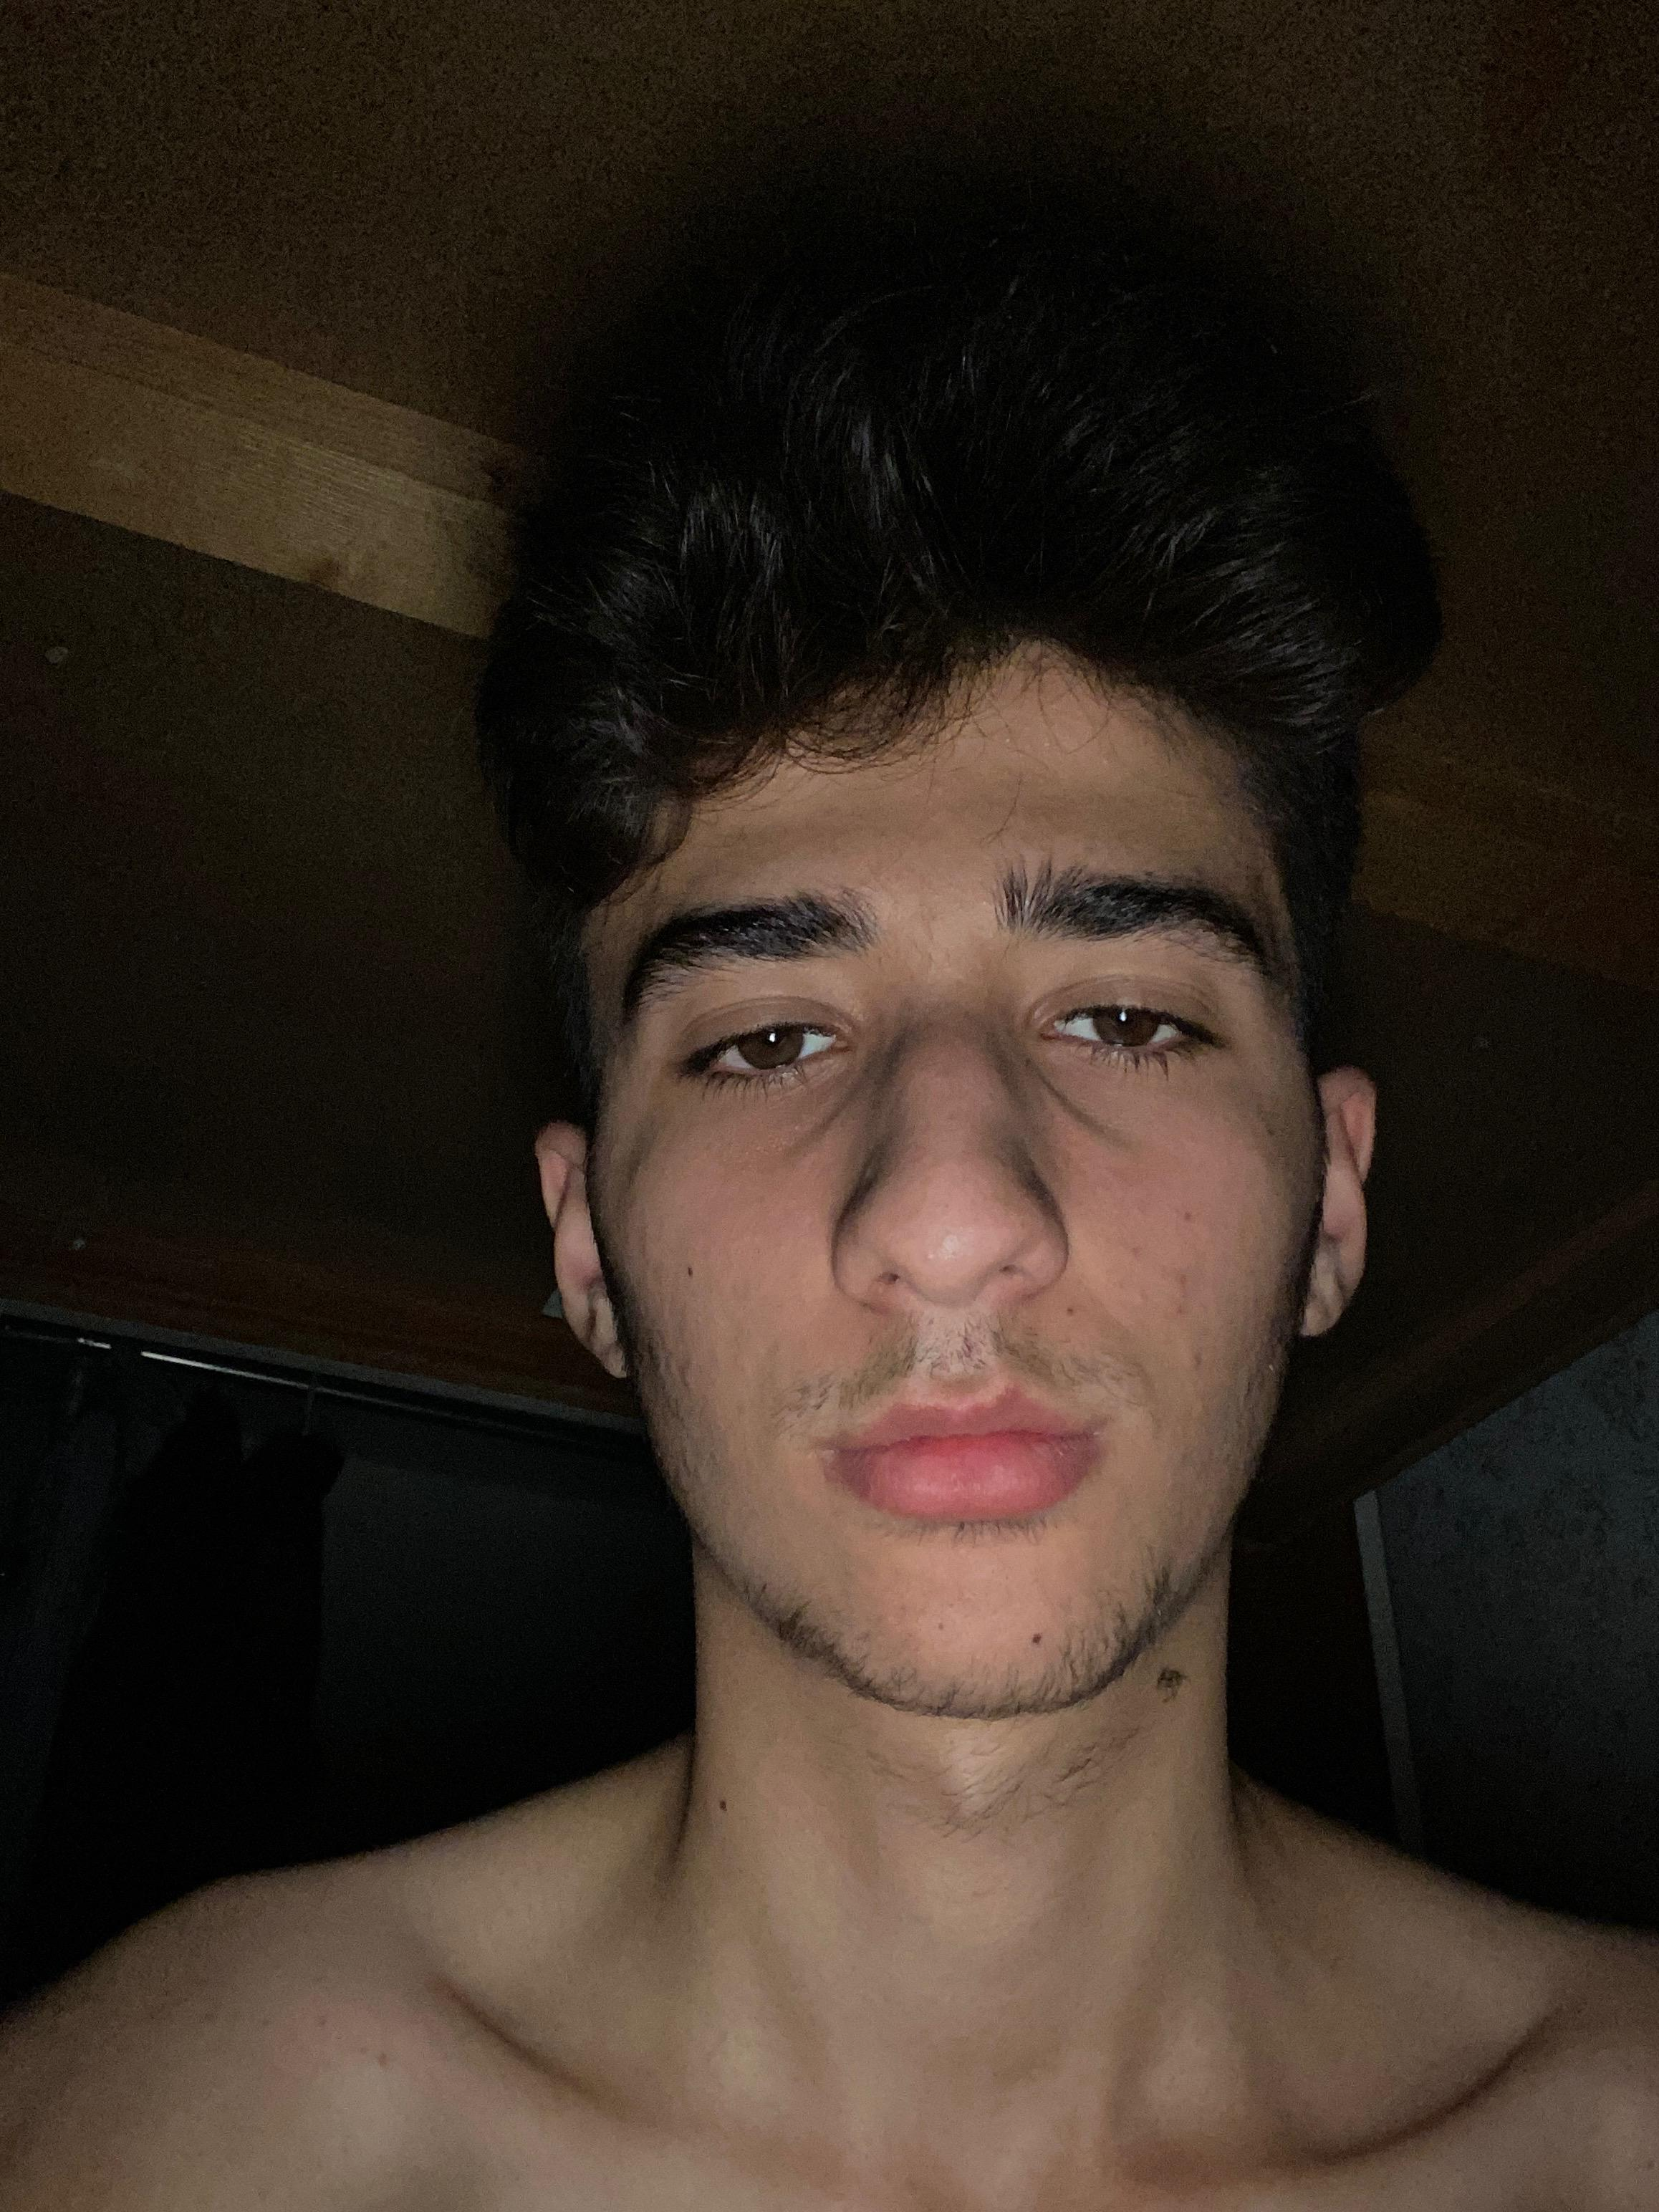Acne: (673, 1352, 704, 1393), (1168, 1270, 1206, 1303), (1154, 1294, 1197, 1322), (1173, 1204, 1206, 1233), (1187, 1345, 1216, 1378), (1060, 1303, 1098, 1324), (1122, 1238, 1159, 1259), (1026, 1623, 1047, 1648)
Eyebags: (1012, 1040, 1281, 1144), (648, 1057, 878, 1177)
